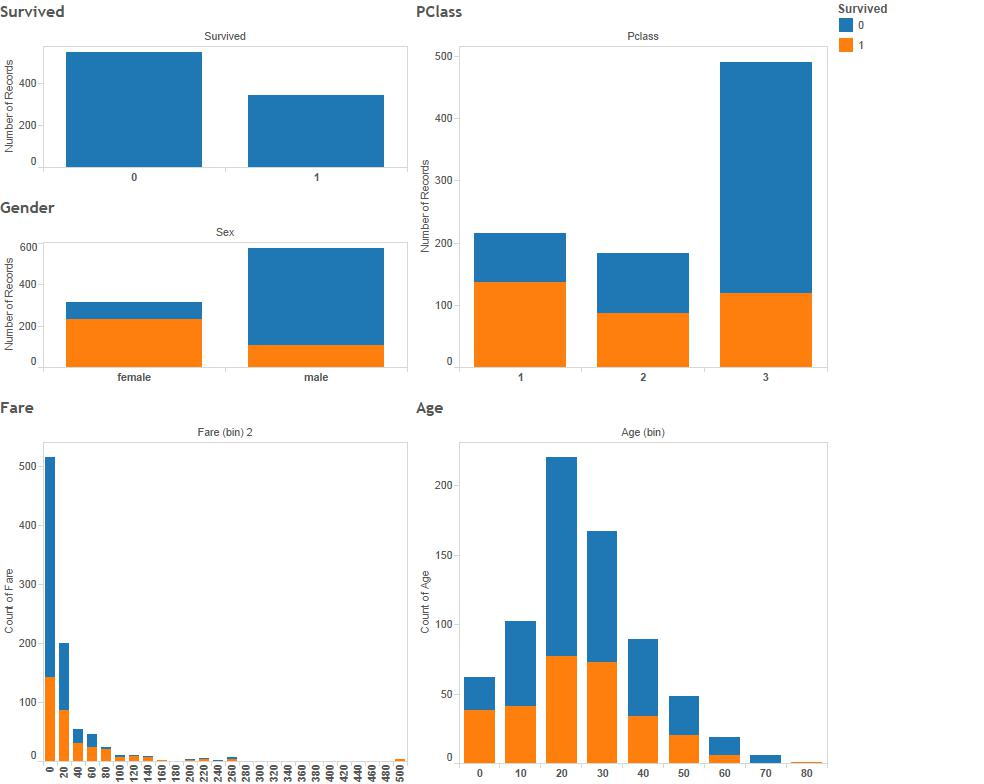

Layout of this report page (visuals, bound fields, positions):
{"tool":"tableau","page":{"name":"Dashboard 1","canvas":[1000,800],"ordinal":0},"visuals":[{"type":"worksheet","title":"Survived","mark":"Automatic","rows":["Number of Records"],"cols":["Survived"],"box":[0,0,420,200]},{"type":"worksheet","title":"PClass","mark":"Automatic","rows":["Number of Records"],"cols":["Pclass"],"box":[420,0,420,400]},{"type":"legend","title":"PClass","param":"[csv.41855.483444722224].[none:Survived:ok]","box":[840,0,160,67]},{"type":"worksheet","title":"Gender","mark":"Automatic","rows":["Number of Records"],"cols":["Sex"],"box":[0,200,420,200]},{"type":"worksheet","title":"Fare","mark":"Automatic","rows":["Fare"],"box":[0,400,420,400]},{"type":"worksheet","title":"Age","mark":"Automatic","rows":["Age"],"box":[420,400,420,400]}]}

Visuals, with their boxes in screenshot pixels (x1, y1, x2, y2), scaled from the page's 1000x800 canvas onto the 984x784 screenshot:
"Survived" worksheet: [x1=0, y1=0, x2=413, y2=196]
"PClass" worksheet: [x1=413, y1=0, x2=827, y2=392]
"PClass" legend: [x1=827, y1=0, x2=983, y2=66]
"Gender" worksheet: [x1=0, y1=196, x2=413, y2=392]
"Fare" worksheet: [x1=0, y1=392, x2=413, y2=783]
"Age" worksheet: [x1=413, y1=392, x2=827, y2=783]
